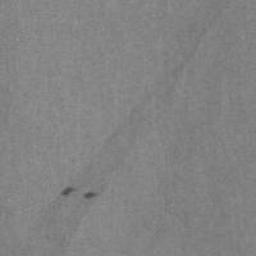Water spot: (9, 0, 237, 256)
